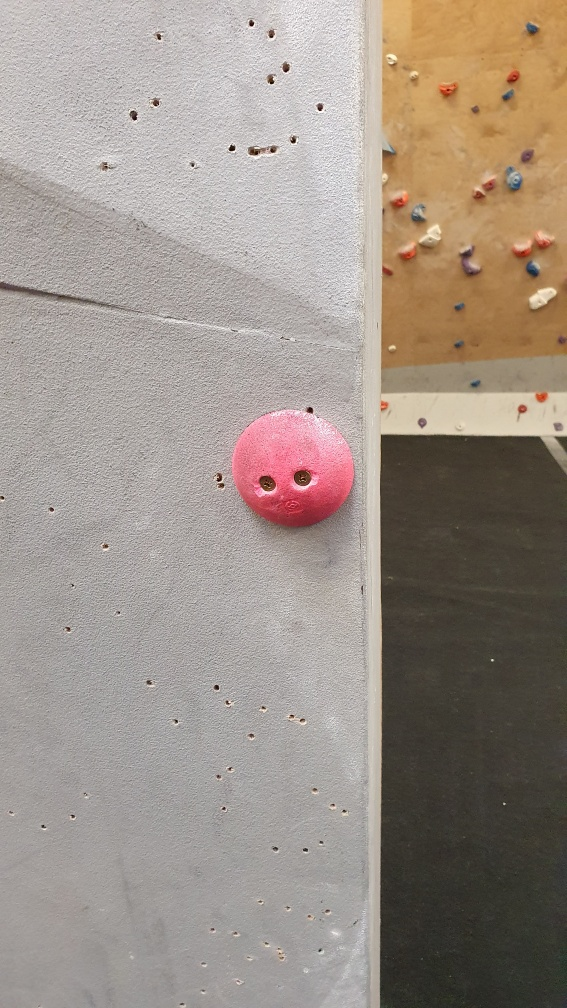Sloper: (230, 404, 359, 536)
